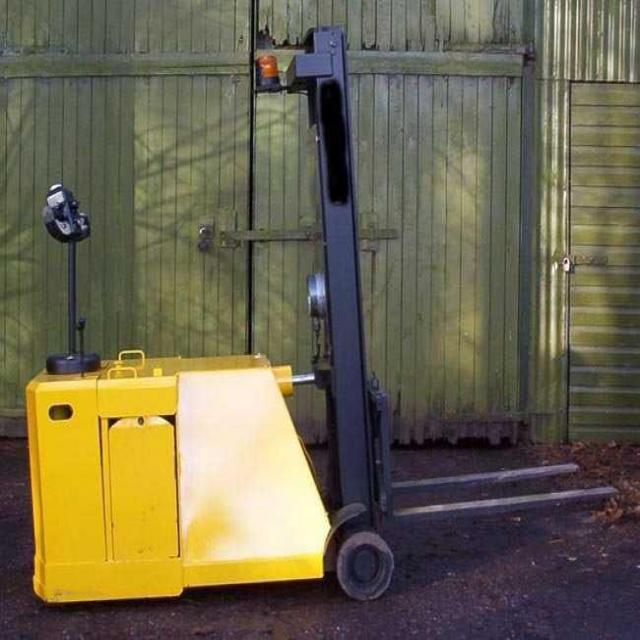Chariot elevateur: (28, 25, 621, 606)
